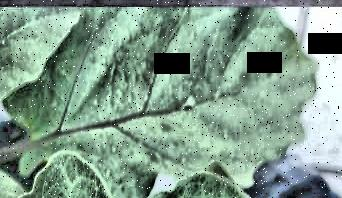HEALTHY: (0, 1, 342, 198)
